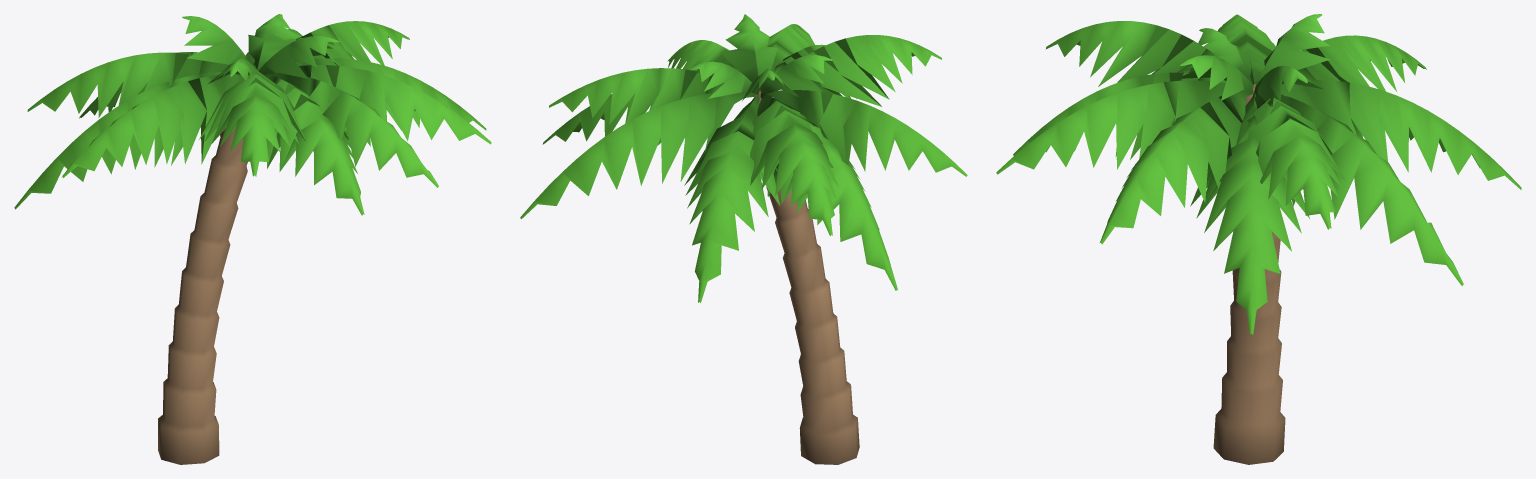
The model's file is palm.glb.
3 renders of one model, left to right at view 1: azimuth 30°, elevation 25°; view 2: azimuth 150°, elevation 25°; view 3: azimuth 270°, elevation 25°, orthographic. The views are drawn at different scales.
Visible parts, largest first — view 1: Palm Palm frond, Palm Palm bark; view 2: Palm Palm frond, Palm Palm bark; view 3: Palm Palm frond, Palm Palm bark.
Boxes of the visible parts, box(x1,y1,x2,y2) form: Palm Palm frond: box(14, 14, 491, 215); Palm Palm bark: box(158, 127, 247, 464); Palm Palm frond: box(520, 14, 967, 302); Palm Palm bark: box(752, 90, 859, 464); Palm Palm frond: box(996, 14, 1521, 334); Palm Palm bark: box(1213, 84, 1285, 464).
Size of the model in its own units: 6.13 by 5.53 by 5.79.
